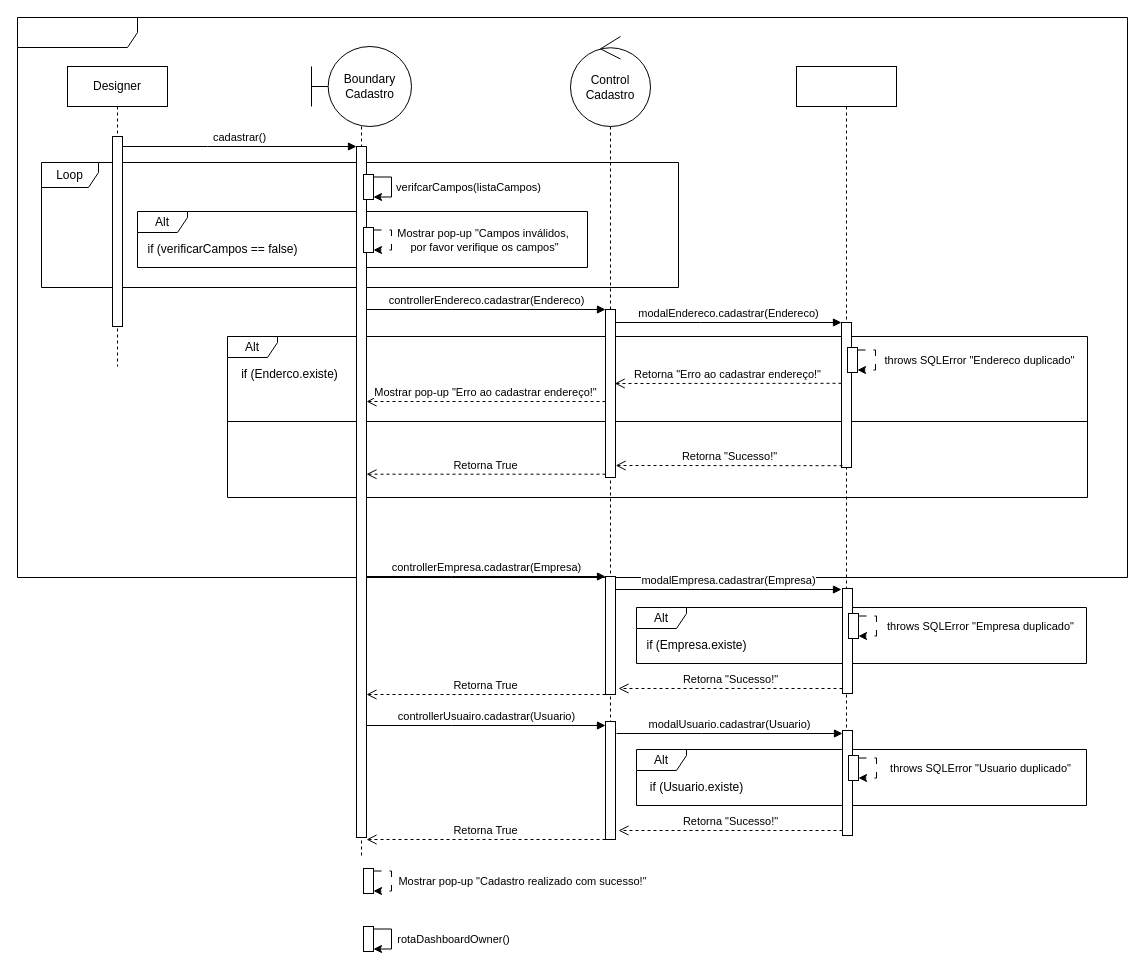
Image size: 1145x975. Some labels were removed from this diagram. Here are the shapes that lost their labels. From the top down, the box of each, then its label:
(16, 16, 1128, 578): Sistema de Cadastro
(796, 66, 896, 728): Banco VisualOps
